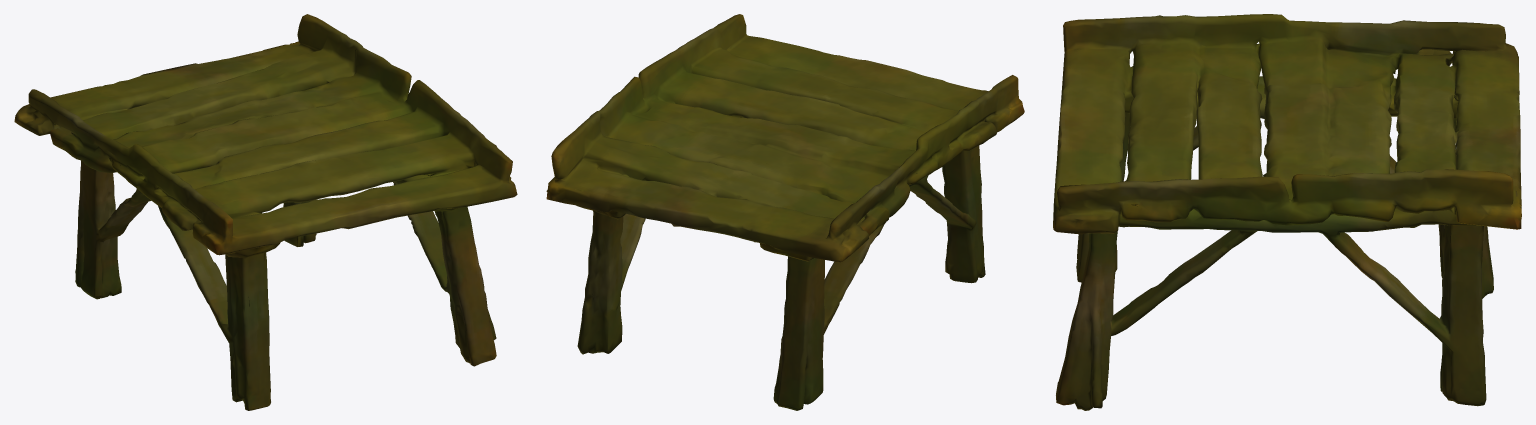
The model's file is dock.fbx.
3 views of the same model, side by side, from view 1: azimuth 30°, elevation 25°; view 2: azimuth 150°, elevation 25°; view 3: azimuth 270°, elevation 25° (orthographic). The views are drawn at different scales.
Visible parts, largest first — view 1: Layer_1; view 2: Layer_1; view 3: Layer_1.
Part boxes in pixels (bbox=[...]): Layer_1: bbox=[14, 14, 517, 410]; Layer_1: bbox=[546, 14, 1024, 410]; Layer_1: bbox=[1053, 14, 1521, 410].
Bounding box in the file's own units: 74.92 × 50.88 × 85.06.
